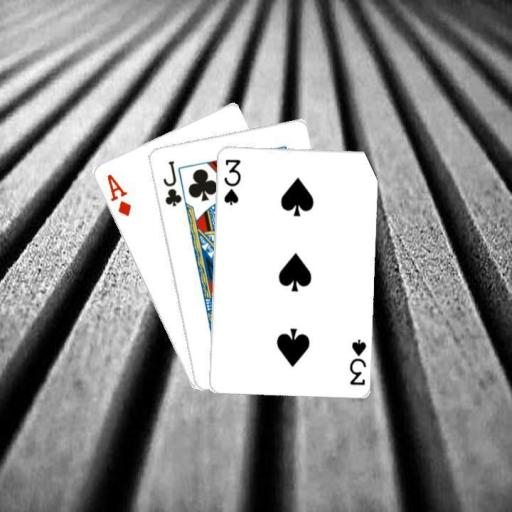card-corner: (103, 170, 132, 218), (159, 157, 183, 208), (220, 155, 242, 206), (346, 336, 367, 386)
